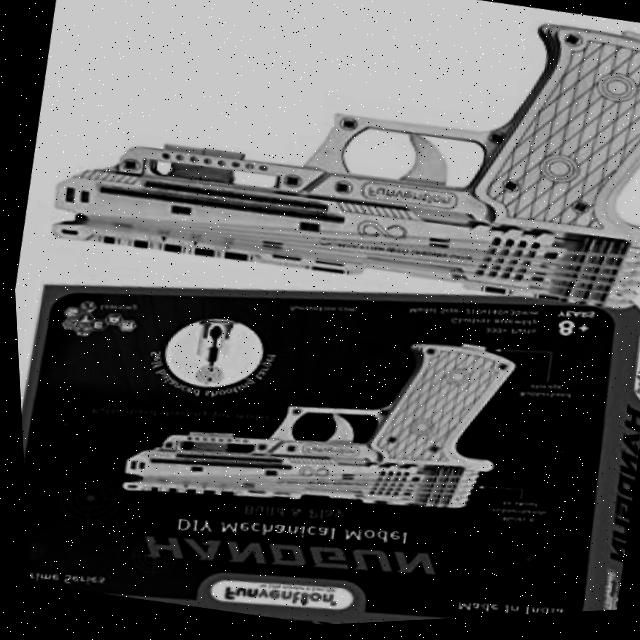pistol: (35, 0, 640, 361), (109, 290, 523, 569)
